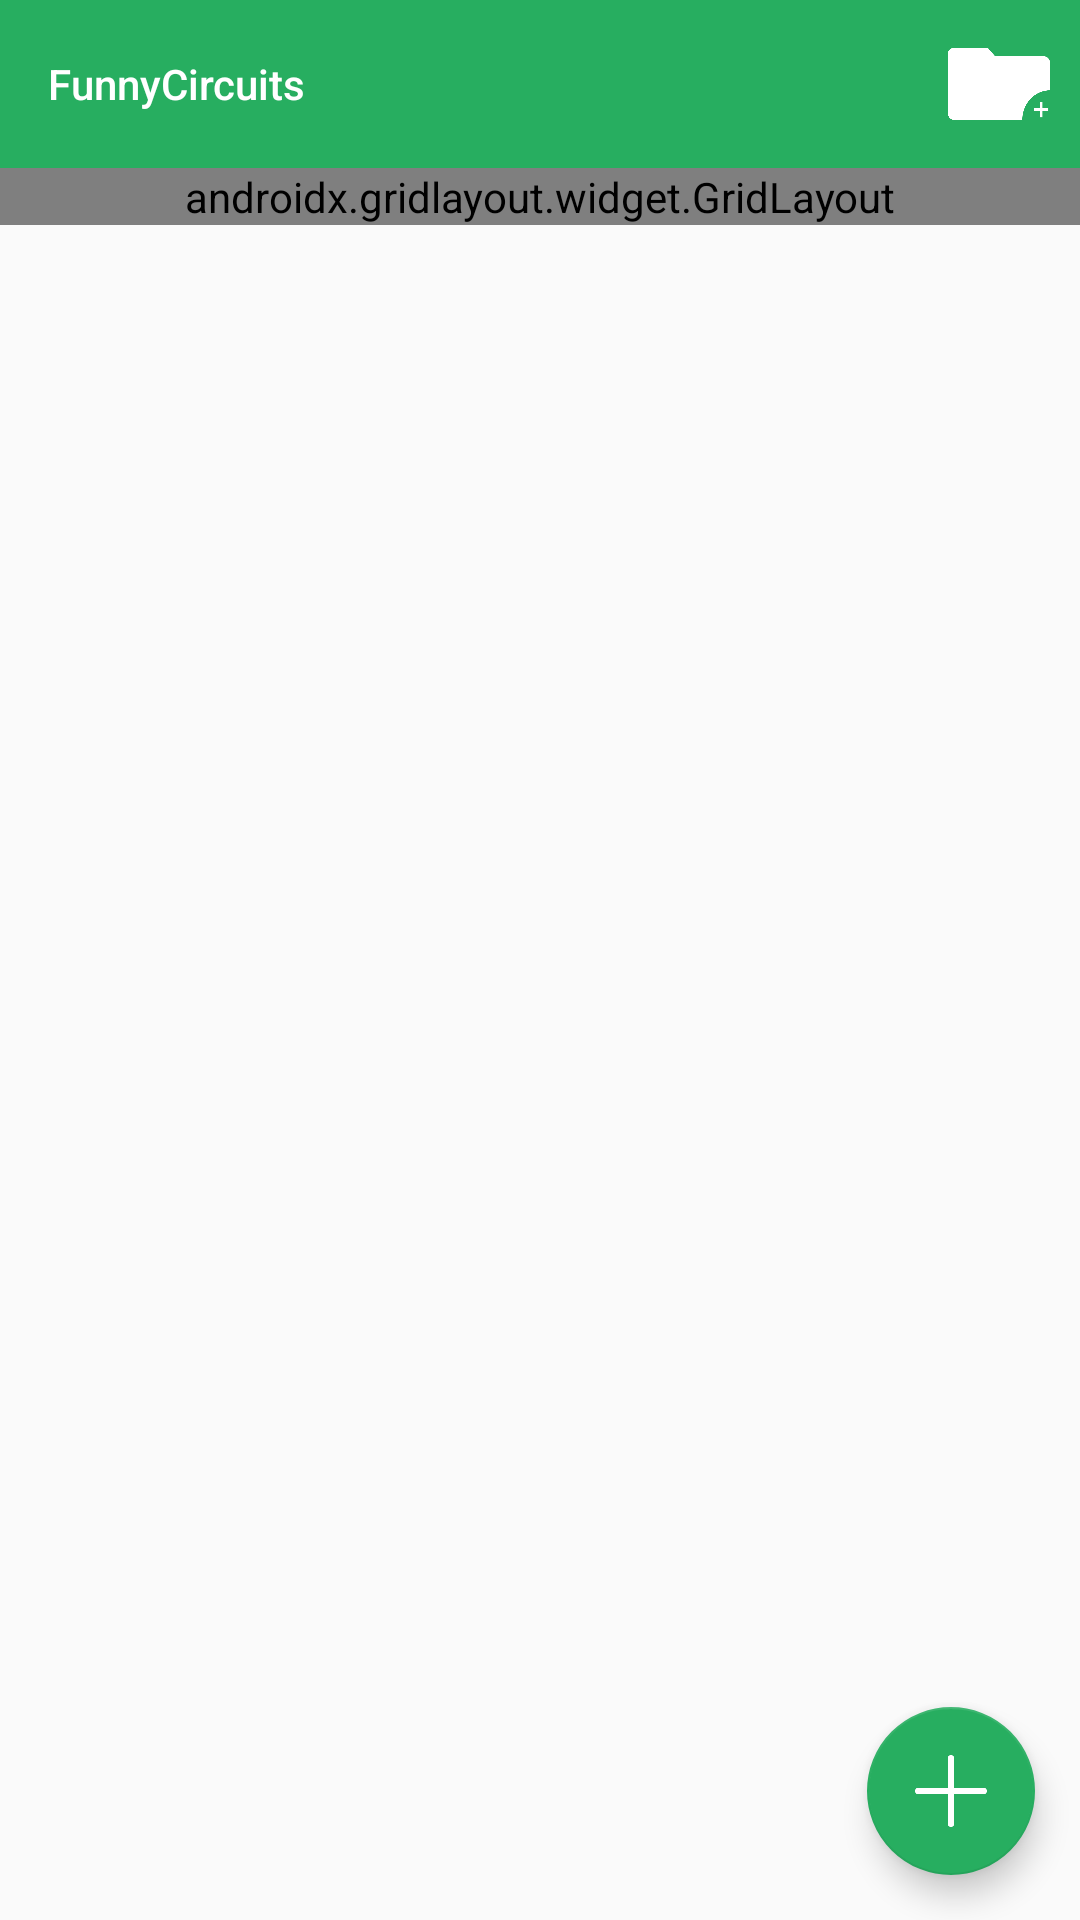

Locate icon controls on the screen. Image size 1080px x 1920px, boxes as bbox(x1, y1, x2, y2).
plus: bbox(867, 1707, 1035, 1875)
plus folder: bbox(948, 48, 1050, 120)
